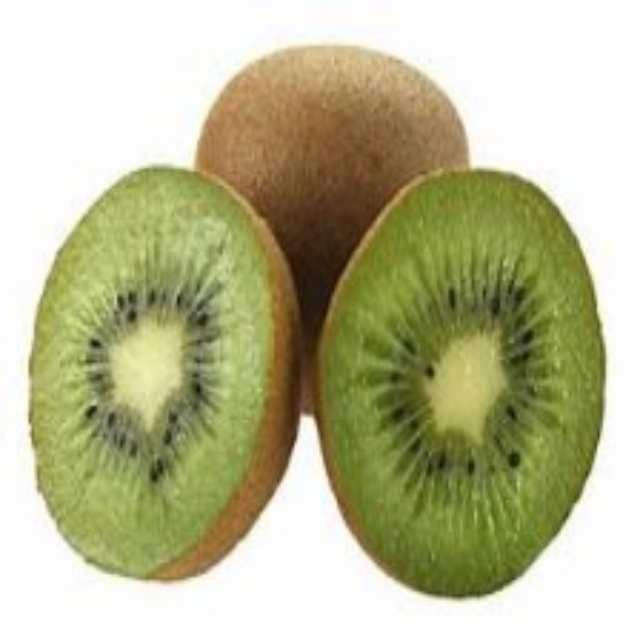kiwi: (307, 164, 609, 601), (31, 170, 296, 581), (199, 44, 469, 270)
